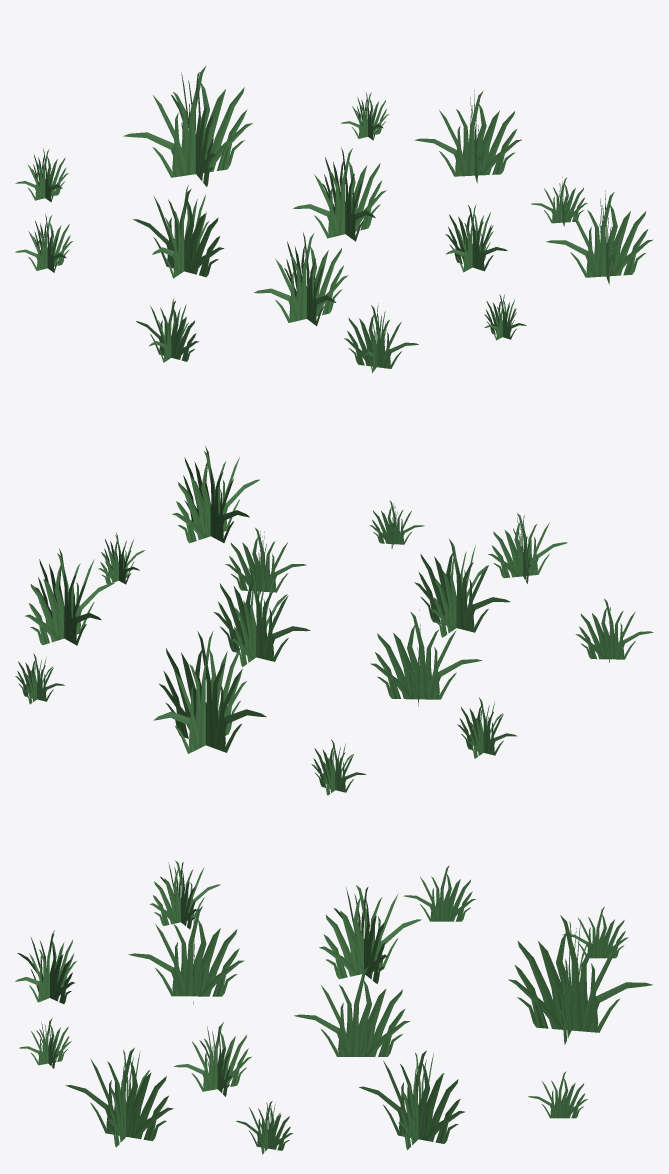
Rendered from Grass.fbx.
3 views of the same model, one above another, from view 1: azimuth 30°, elevation 25°; view 2: azimuth 150°, elevation 25°; view 3: azimuth 270°, elevation 25° (orthographic). The views are drawn at different scales.
Parts seen in each view (by area): view 1: Grass; view 2: Grass; view 3: Grass.
Part boxes in pixels (x1=…): Grass: x1=15, y1=66, x2=652, y2=372; Grass: x1=15, y1=446, x2=653, y2=795; Grass: x1=15, y1=860, x2=652, y2=1154.
Size of the model in its own units: 178 by 44.65 by 188.
1 material, 1 textured.
